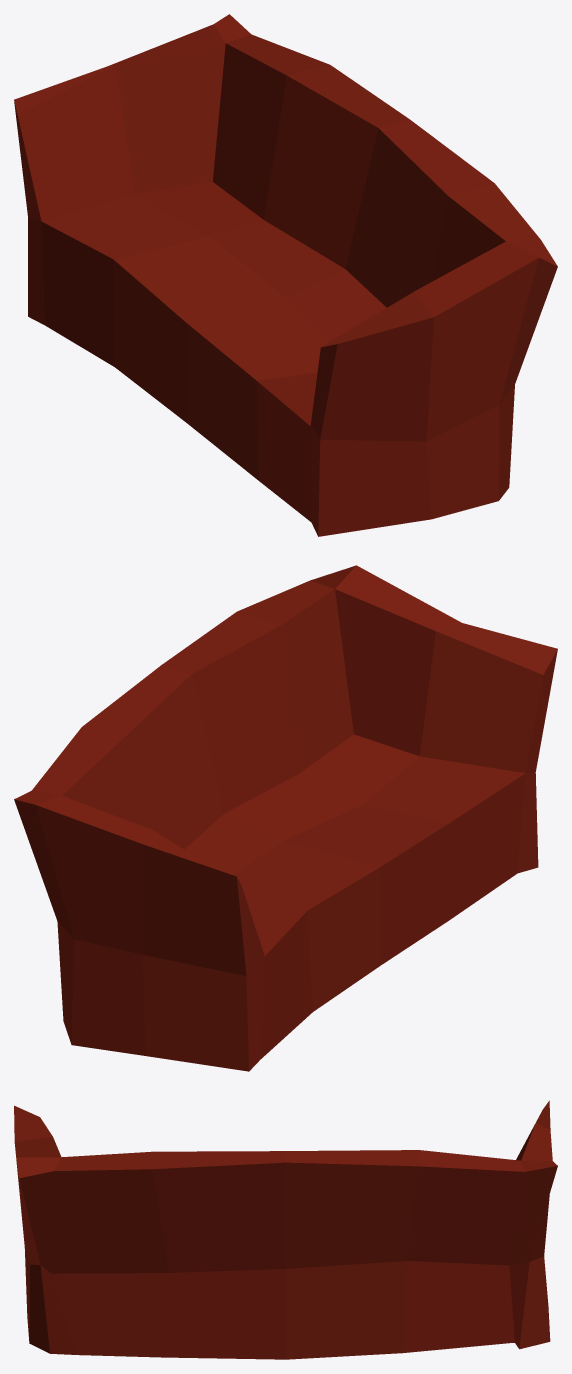
Rendered from Sofa.fbx.
The picture shows the model from 3 angles, top to bottom: view 1: azimuth 30°, elevation 25°; view 2: azimuth 150°, elevation 25°; view 3: azimuth 270°, elevation 25°; orthographic projection. The views are drawn at different scales.
Parts seen in each view (by area): view 1: Sofa; view 2: Sofa; view 3: Sofa.
Boxes of the visible parts, x1,y1,x2,y2 form: Sofa: [14, 14, 557, 536]; Sofa: [14, 565, 557, 1071]; Sofa: [14, 1100, 557, 1359].
Bounding box in the file's own units: 98.51 × 99.73 × 232.
